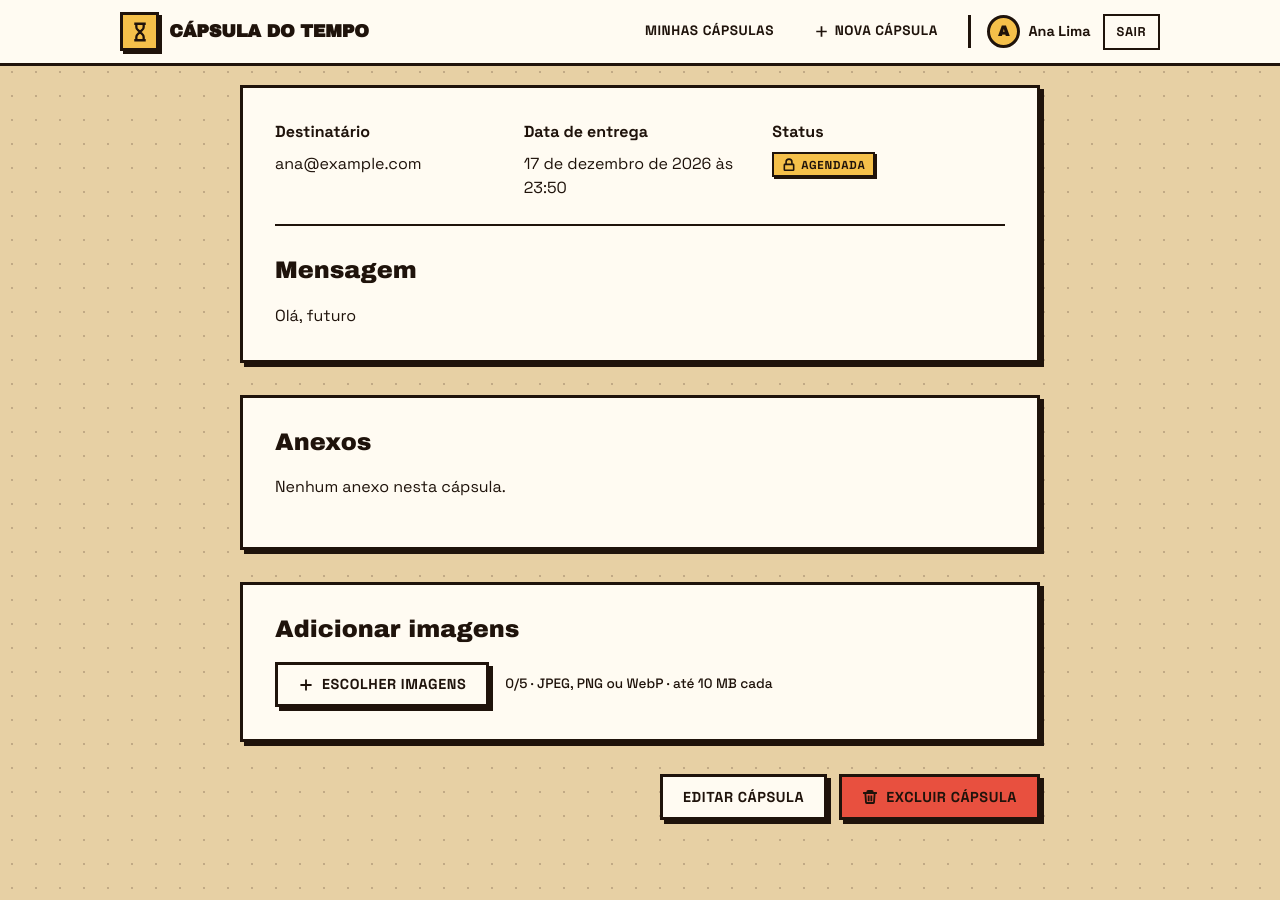
editing a scheduled capsule › sends only the changed fields, then shows the refreshed capsule
(page scrolled)
Step 1. Click the button "Editar cápsula" → (744, 797), box [660,774,827,820]
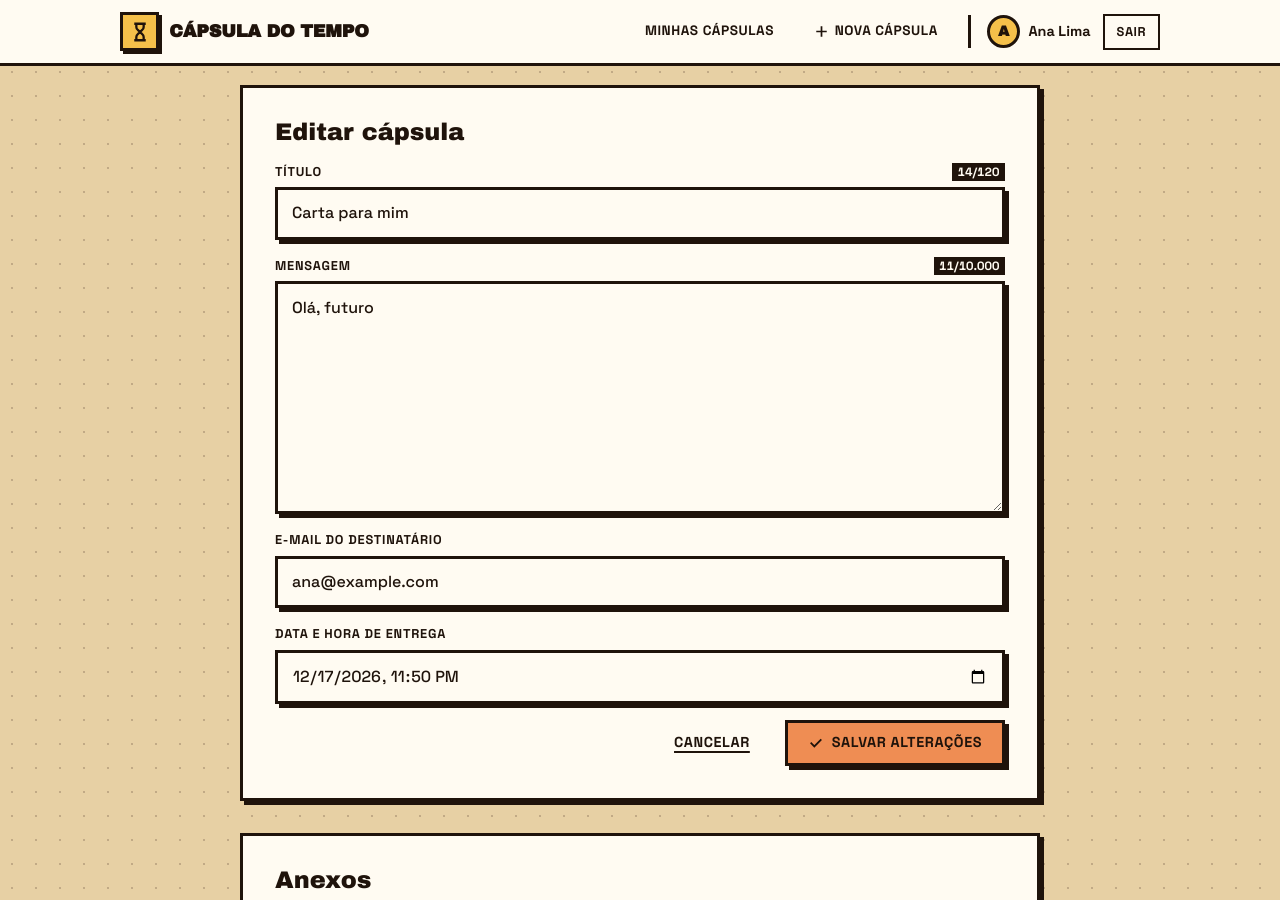
Step 2. Replace the text in the field labelled "Título" with "  Novo título " → (640, 213), box [275,187,1005,240]
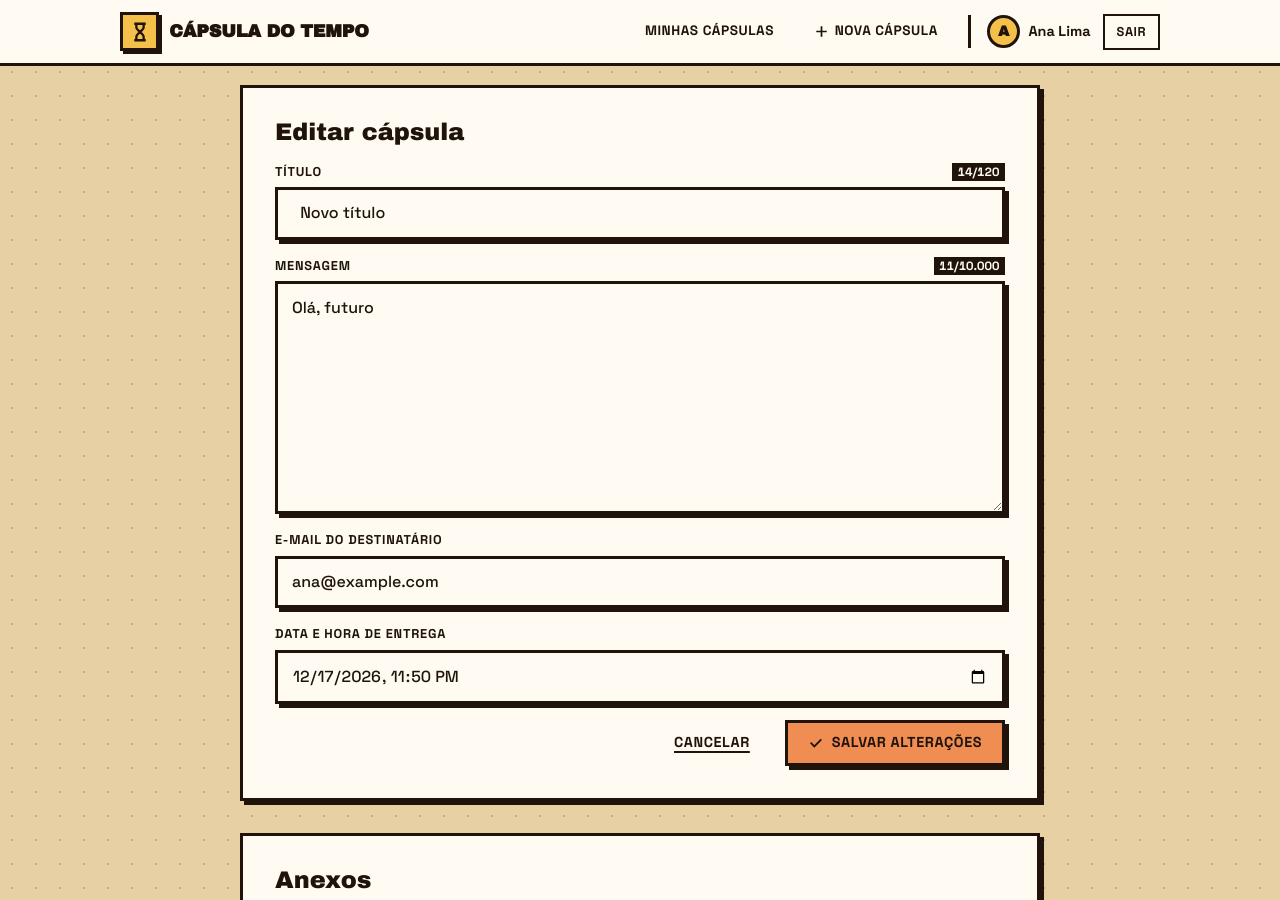
Step 3. Replace the text in the field labelled "E-mail do destinatário" with "outra@example.com" → (640, 582), box [275,556,1005,608]
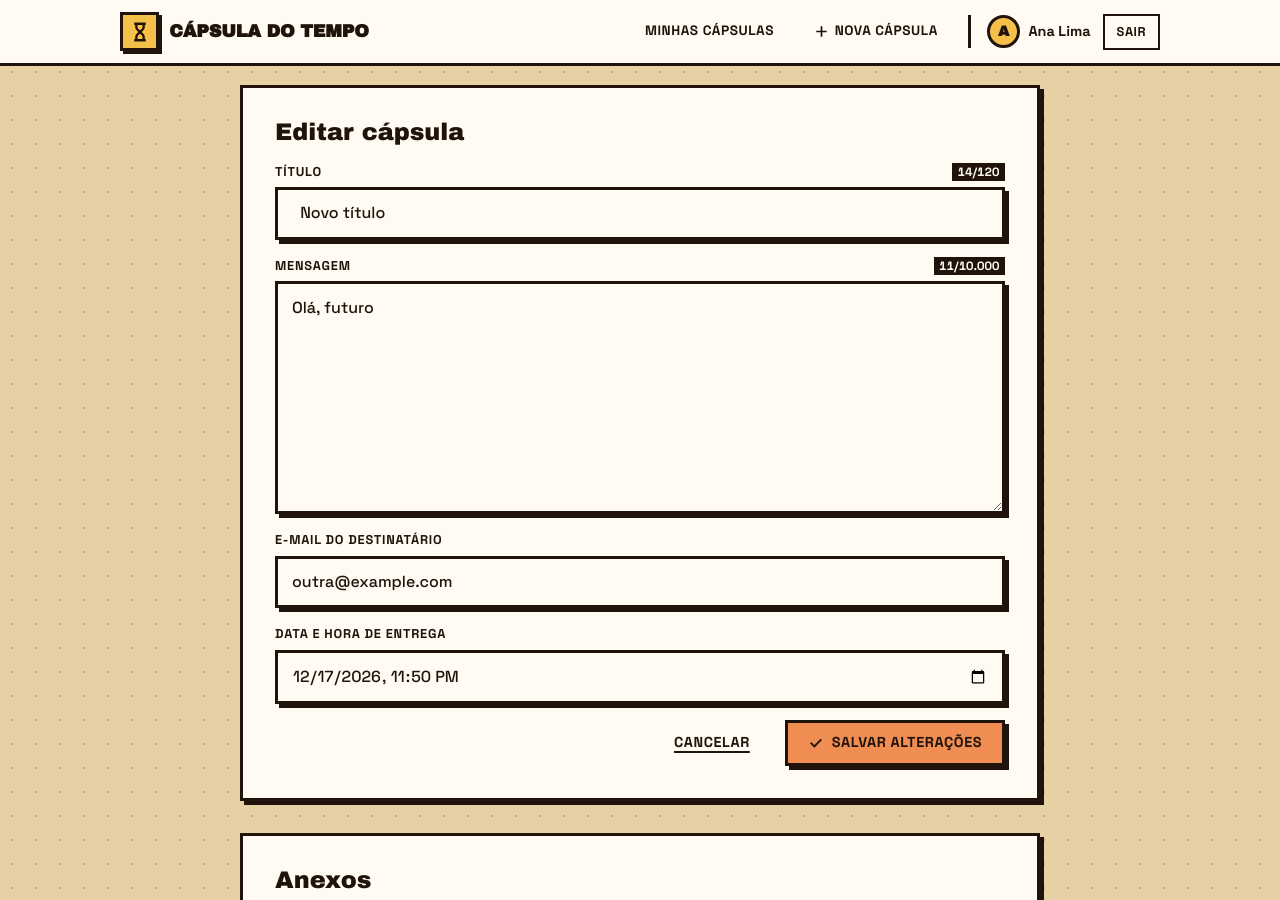
Step 4. Click the button "Salvar alterações" → (895, 743), box [785,720,1005,766]
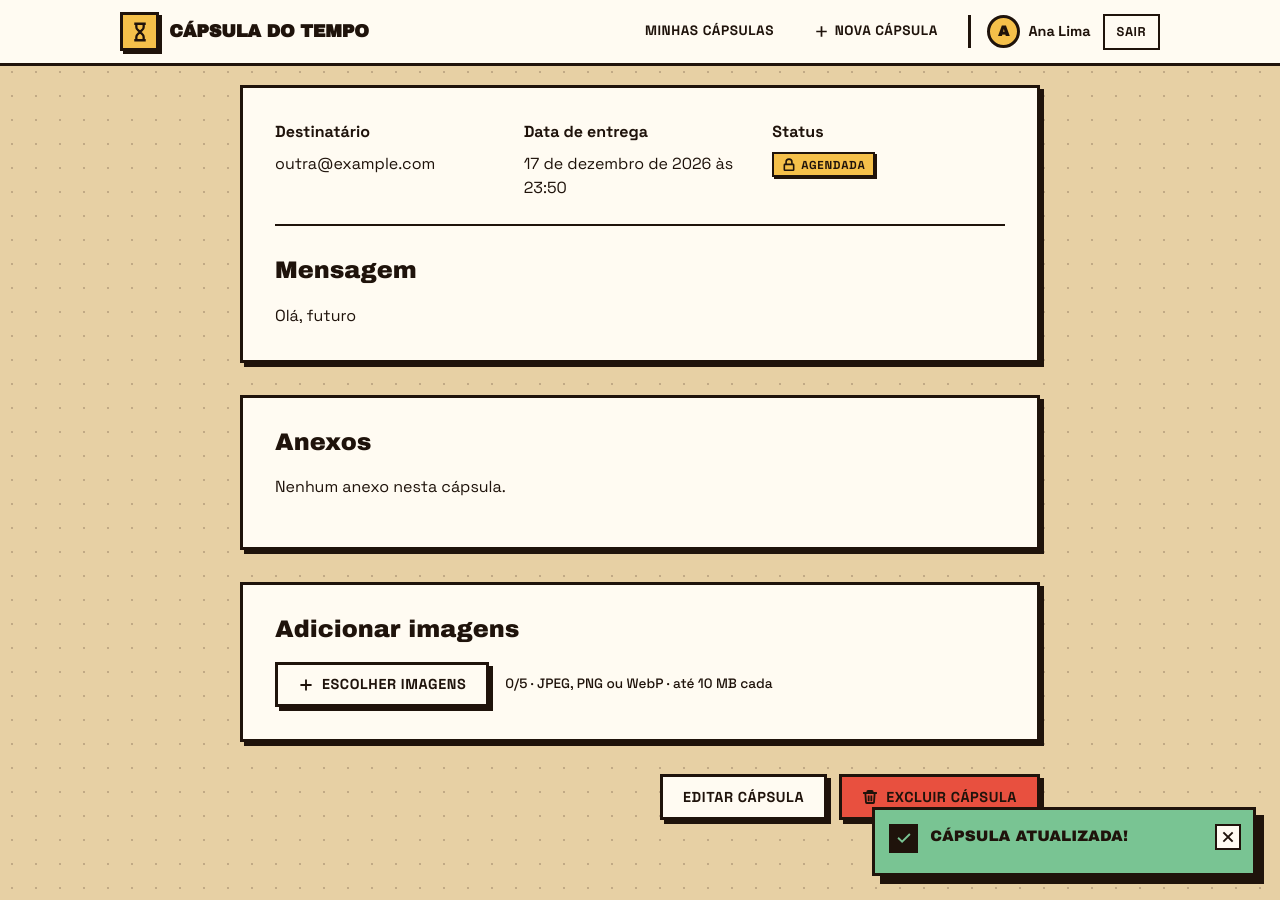
Now the text "Cápsula atualizada!" is shown, box [930,828,1128,844]
Now the text "outra@example.com" is shown, box [275,153,435,174]
Now the button "Salvar alterações" is gone
